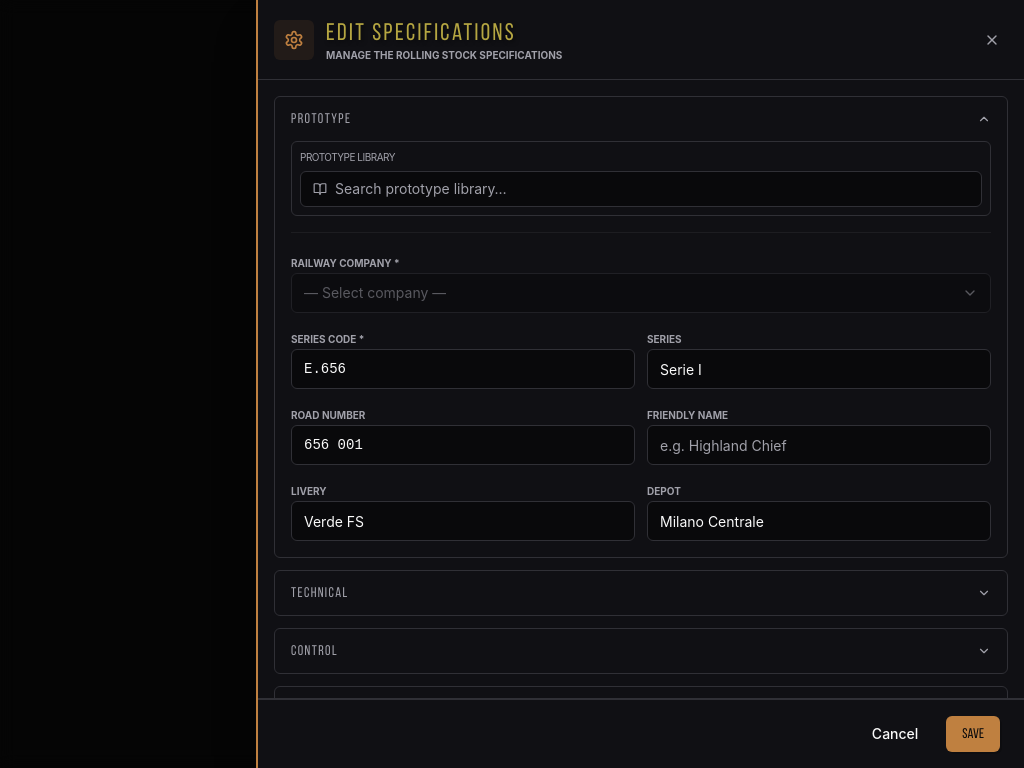
Test: RollingStockSpecsDrawer › FR-027: Dirty-check confirmation dialog › shows a confirmation dialog when closing the drawer with unsaved changes
Replace the text in the field showing "E.656" with "E.646" at (463, 369), box x1=291 y1=349 x2=635 y2=389
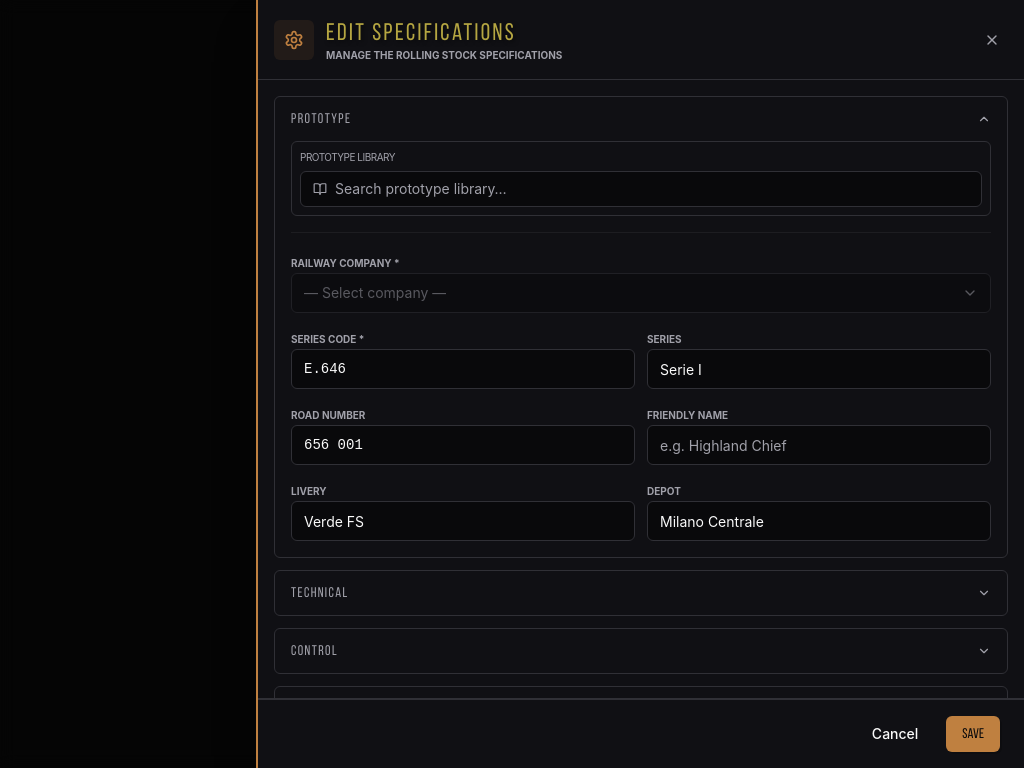
Click the close (X) button
Click the button named "close".
click(992, 40)  # box x1=976 y1=24 x2=1008 y2=56
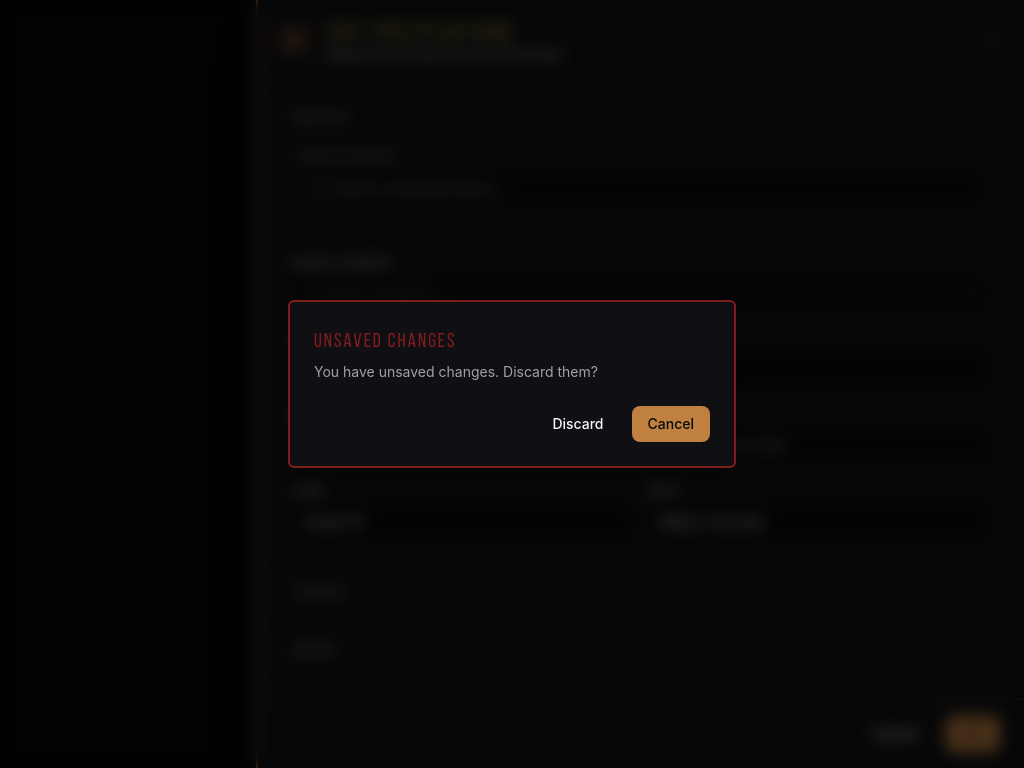
Expected: the heading "Unsaved Changes" is shown, x1=314 y1=329 x2=456 y2=351
